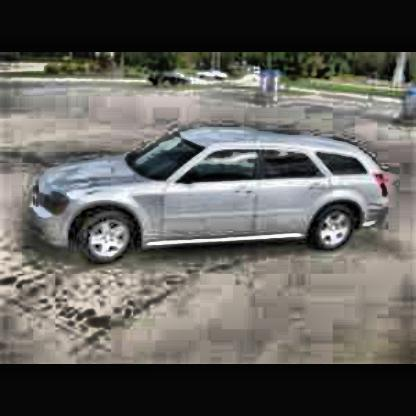Dodge Magnum Wagon 2008: (24, 125, 394, 269)
